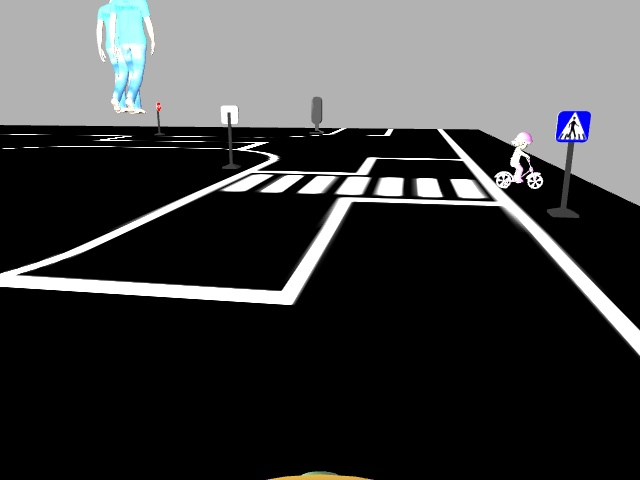Crosswalk: (549, 105, 593, 142)
Pedestrian: (488, 125, 546, 190)
